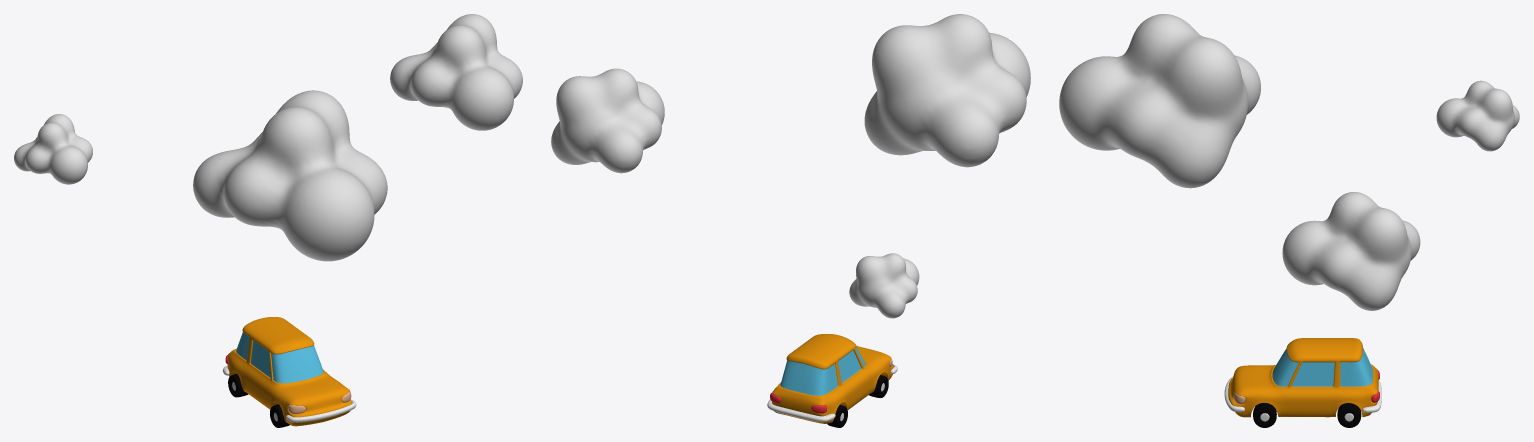
File: car.glb
3 renders of one model, left to right at view 1: azimuth 30°, elevation 25°; view 2: azimuth 150°, elevation 25°; view 3: azimuth 270°, elevation 25°, orthographic. The views are drawn at different scales.
Visible parts, largest first — view 1: Circle.017, Circle.016, Vert, Circle.015; view 2: Circle.017, Circle.016, Vert, Circle.015, Vert.003; view 3: Circle.017, Circle.016, Vert, Circle.015, Circle, Circle.001.
Part boxes in pixels (left/top/right/bottom): Circle.017: left=193, top=90, right=387, bottom=261; Circle.016: left=390, top=14, right=522, bottom=130; Vert: left=227, top=317, right=352, bottom=426; Circle.015: left=14, top=114, right=92, bottom=184; Circle.017: left=864, top=14, right=1030, bottom=167; Circle.016: left=551, top=68, right=664, bottom=173; Vert: left=772, top=334, right=893, bottom=423; Circle.015: left=849, top=253, right=919, bottom=318; Vert.003: left=767, top=399, right=835, bottom=422; Circle.017: left=1059, top=14, right=1260, bottom=188; Circle.016: left=1282, top=192, right=1420, bottom=310; Vert: left=1228, top=338, right=1378, bottom=417; Circle.015: left=1436, top=80, right=1519, bottom=151; Circle: left=1253, top=403, right=1276, bottom=427; Circle.001: left=1337, top=403, right=1361, bottom=427.
Size of the model in its own units: 2.96 by 2.4 by 2.74.
